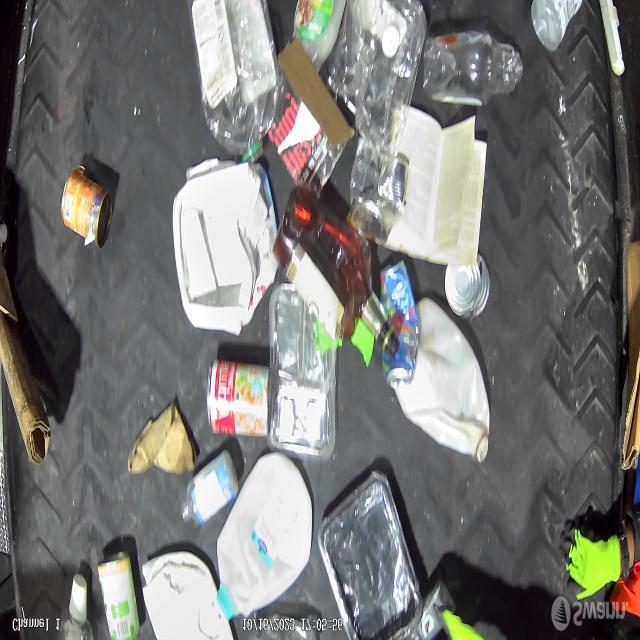can: (345, 157, 411, 239), (205, 362, 268, 438), (383, 266, 419, 391), (61, 177, 110, 249), (100, 554, 138, 640), (444, 255, 486, 323)
milk_jug: (208, 458, 312, 620), (415, 314, 489, 466)
plastic_bottle: (192, 0, 280, 166), (418, 26, 522, 106), (361, 8, 407, 142)
